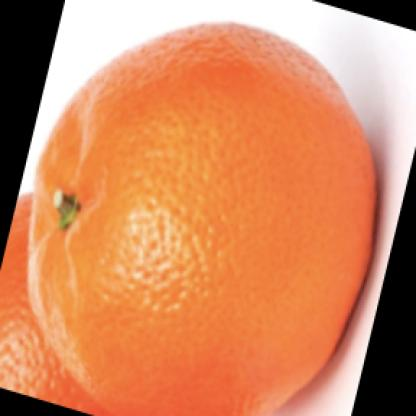fresh: (30, 24, 376, 416)
